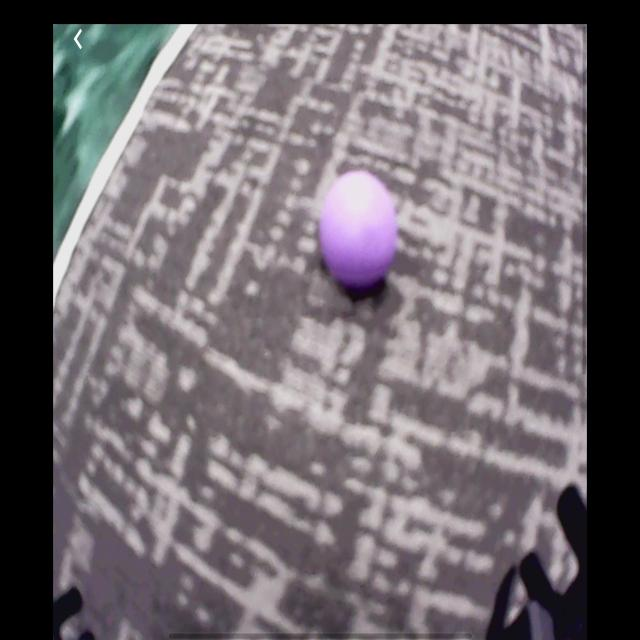ball: (321, 171, 398, 289)
